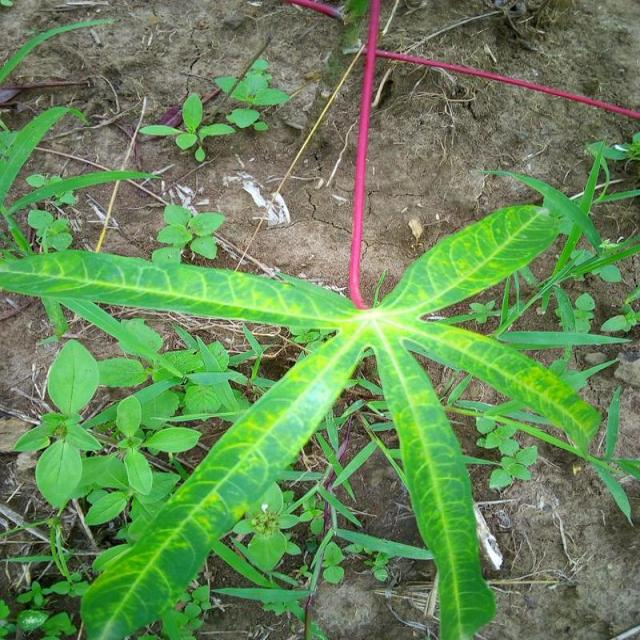cassava leaf: (10, 194, 622, 638)
